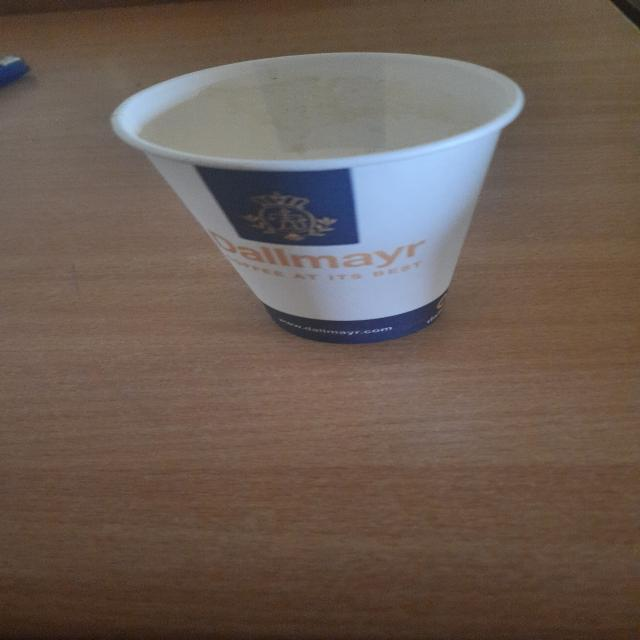plastic: (60, 60, 622, 397)
